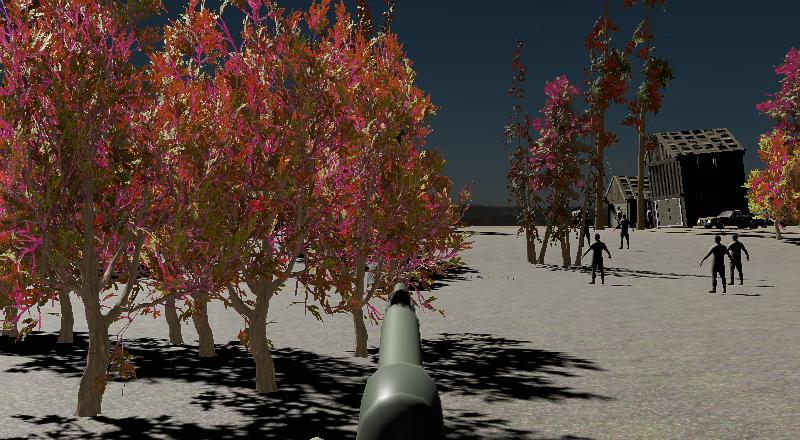Human: (584, 232, 612, 286)
